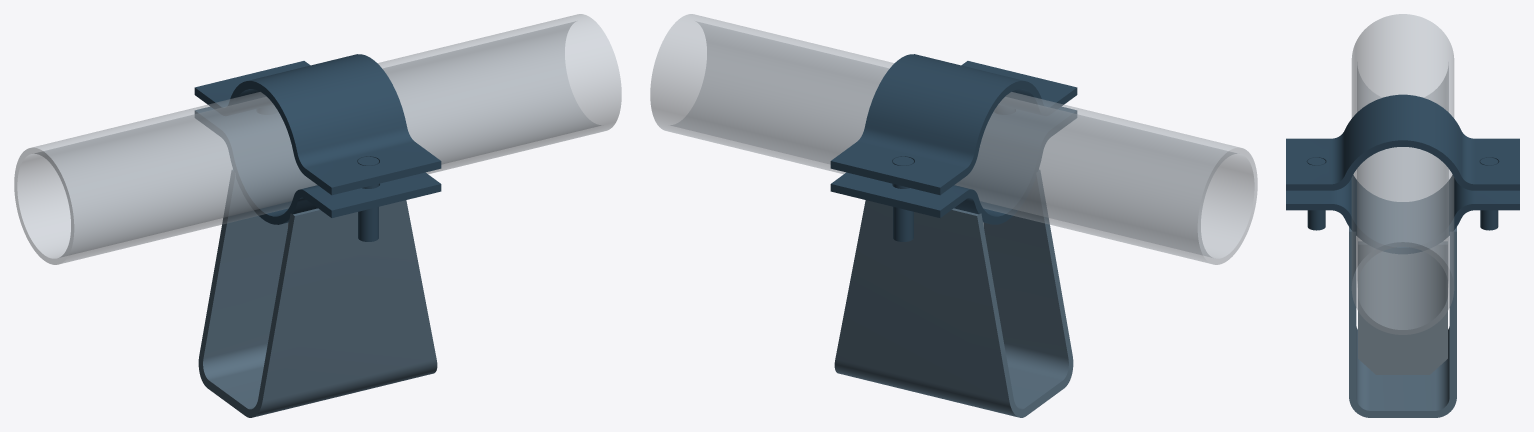
File: TS-625.000-03-opora-dn57.glb
3 renders of one model, left to right at view 1: azimuth 30°, elevation 25°; view 2: azimuth 150°, elevation 25°; view 3: azimuth 270°, elevation 25°, orthographic. The views are drawn at different scales.
Parts seen in each view (by area): view 1: truba, skoba_0, poluhomut_verh_3, poluhomut_niz_2, bolt_5; view 2: truba, skoba_0, poluhomut_verh_3, poluhomut_niz_2, bolt_4; view 3: truba, poluhomut_verh_3, rebro_1, poluhomut_niz_2, skoba_0, bolt_4, bolt_5.
Boxes of the visible parts, x1,y1,x2,y2 form: truba: [14, 14, 621, 264]; skoba_0: [198, 170, 437, 417]; poluhomut_verh_3: [194, 54, 441, 195]; poluhomut_niz_2: [194, 107, 441, 224]; bolt_5: [358, 156, 378, 241]; truba: [650, 14, 1257, 264]; skoba_0: [834, 170, 1073, 417]; poluhomut_verh_3: [830, 54, 1077, 195]; poluhomut_niz_2: [830, 107, 1077, 224]; bolt_4: [893, 156, 913, 241]; truba: [1351, 14, 1454, 334]; poluhomut_verh_3: [1286, 94, 1519, 190]; rebro_1: [1358, 241, 1447, 374]; poluhomut_niz_2: [1286, 175, 1519, 254]; skoba_0: [1349, 227, 1456, 417]; bolt_4: [1480, 157, 1498, 230]; bolt_5: [1307, 157, 1325, 230].
Bounding box in the file's own units: 300 × 161 × 130.
